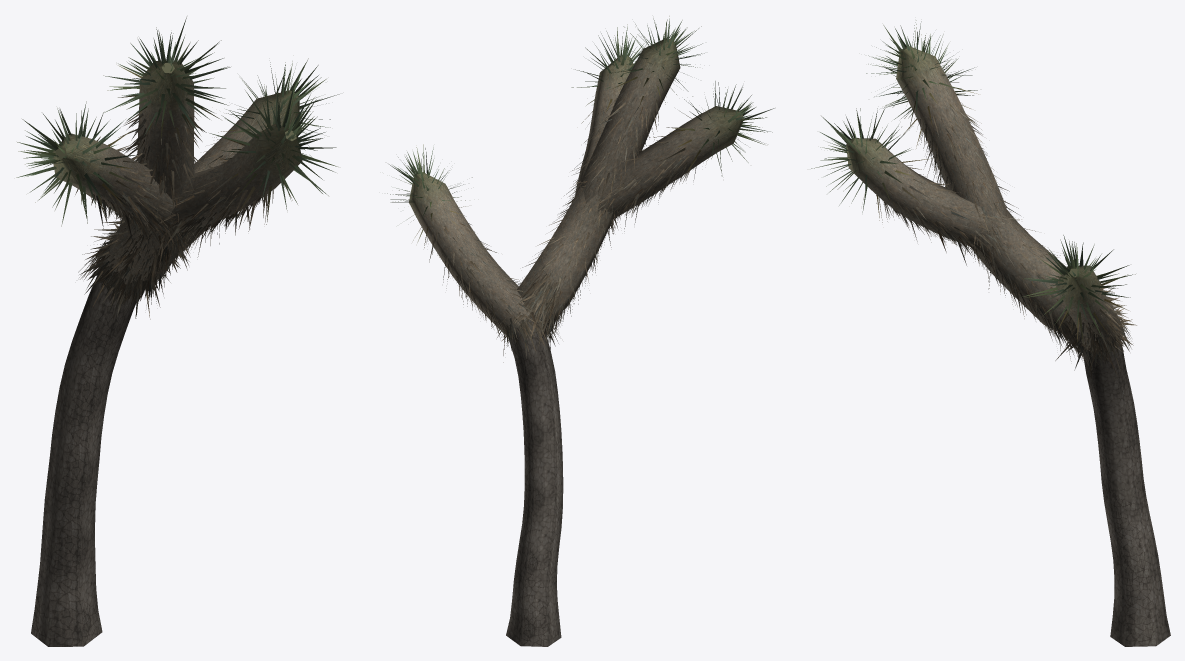
The model's file is joshua_b_lod1.glb.
3 renders of one model, left to right at view 1: azimuth 30°, elevation 25°; view 2: azimuth 150°, elevation 25°; view 3: azimuth 270°, elevation 25°, orthographic. The views are drawn at different scales.
Parts seen in each view (by area): view 1: joshua_b_lod1; view 2: joshua_b_lod1; view 3: joshua_b_lod1.
Part boxes in pixels (left/top/right/bottom): joshua_b_lod1: left=16, top=17, right=339, bottom=646; joshua_b_lod1: left=387, top=16, right=774, bottom=646; joshua_b_lod1: left=811, top=20, right=1170, bottom=646.
Size of the model in its own units: 2.98 by 5 by 2.73.
Materials: 3 (3 with a texture image).
